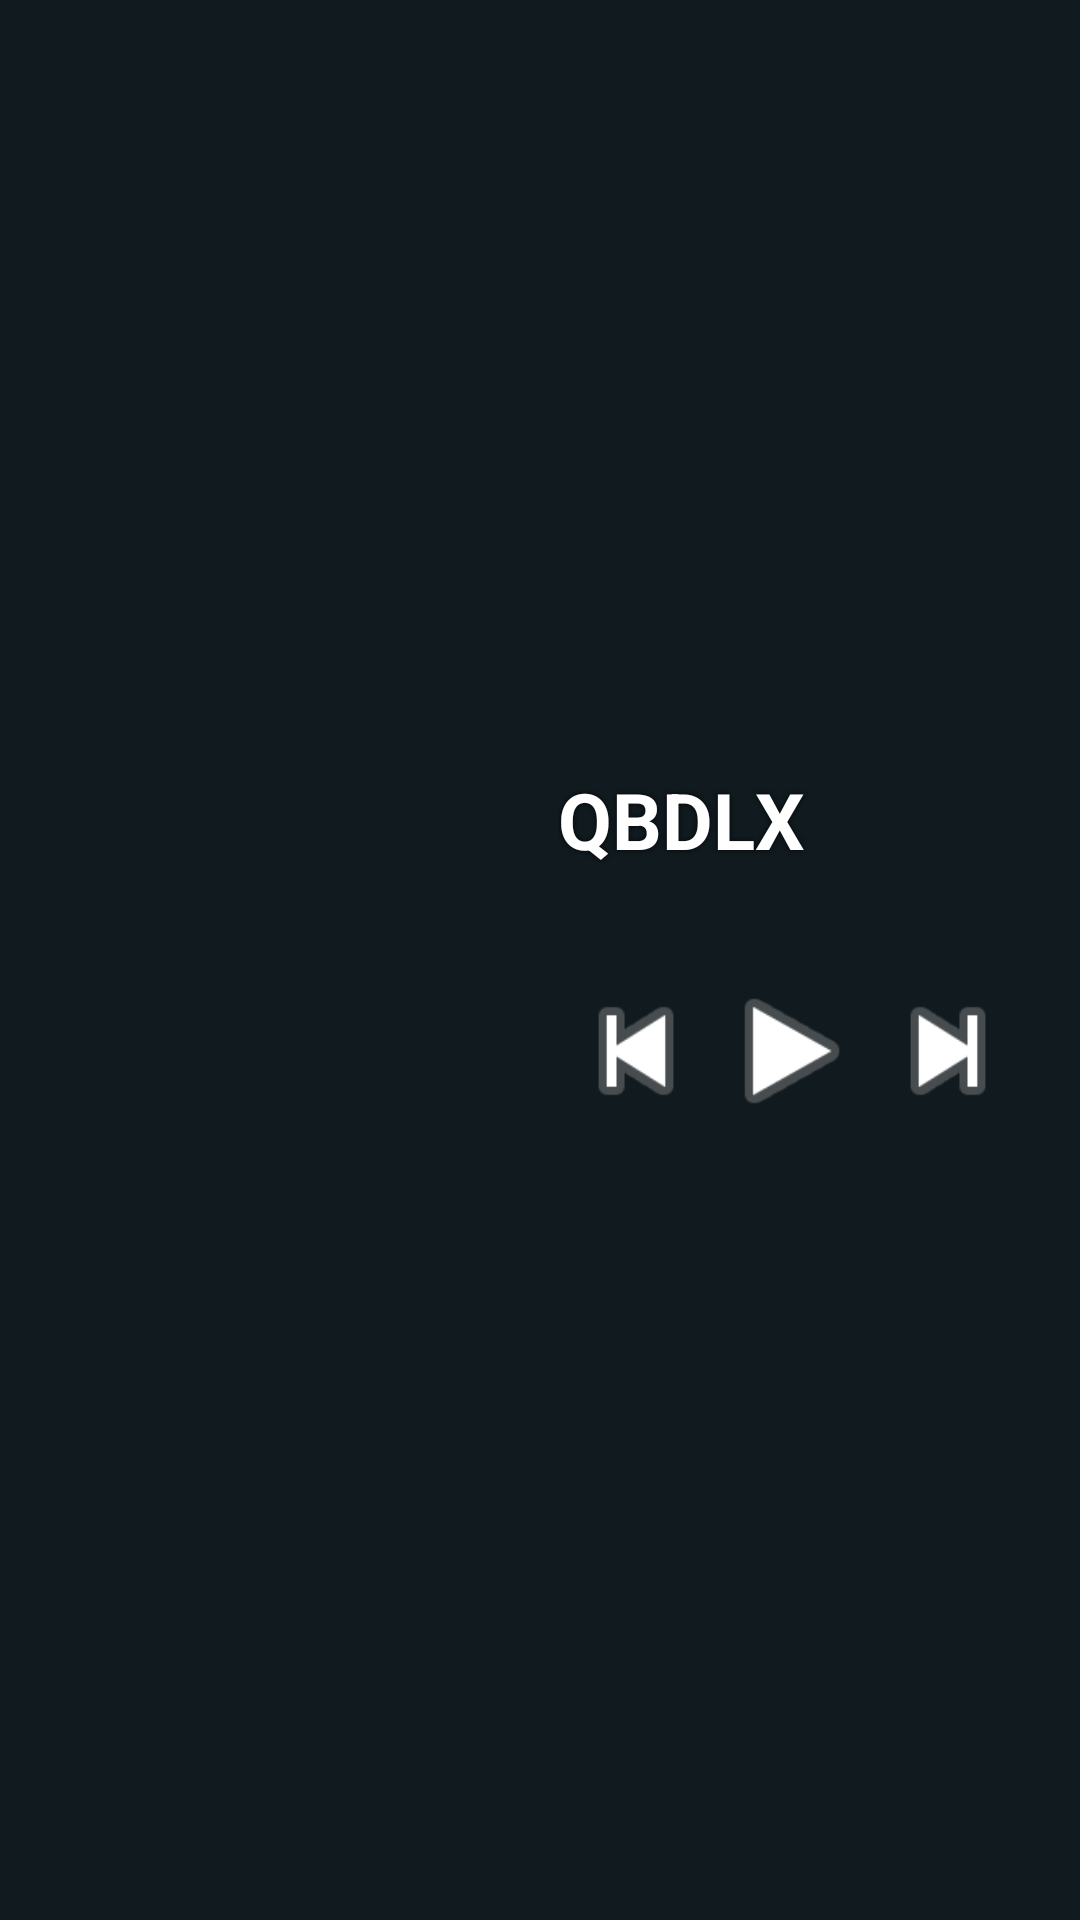

Locate icon controls on the screen. Image size 1080×1920, boxes as [x1, y1, x2, y2].
Next: [911, 1007, 985, 1095]
Play / pause: [745, 999, 839, 1103]
Previous: [599, 1007, 673, 1095]
